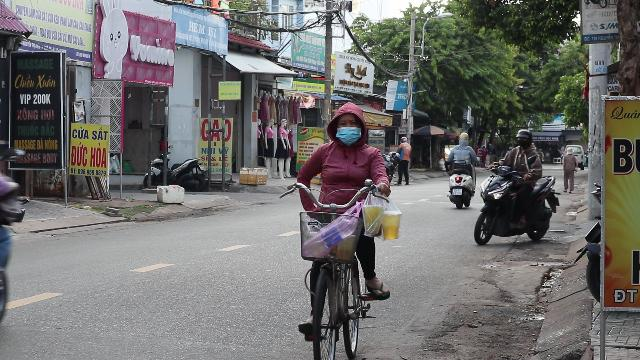helmet: (516, 128, 532, 146)
motorcyclist: (473, 128, 559, 250)
